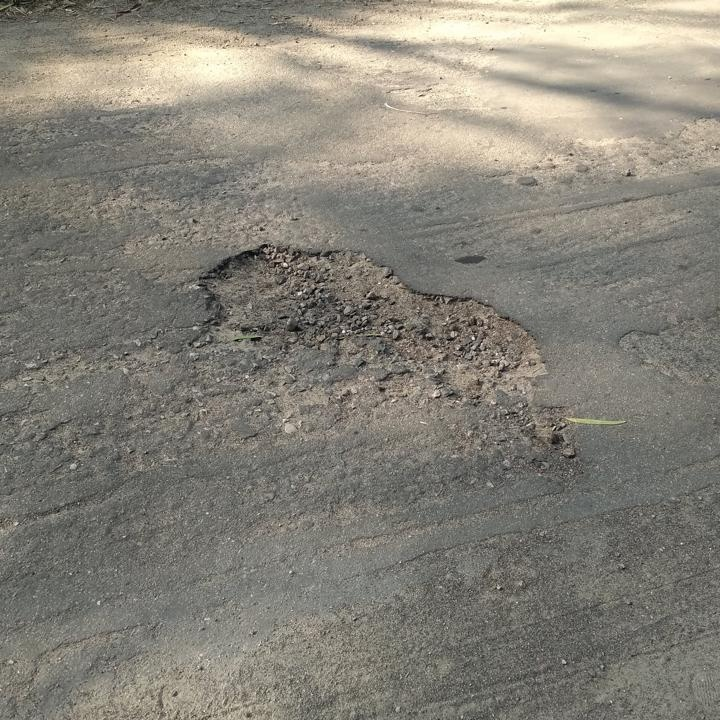pothole: (188, 237, 553, 402)
